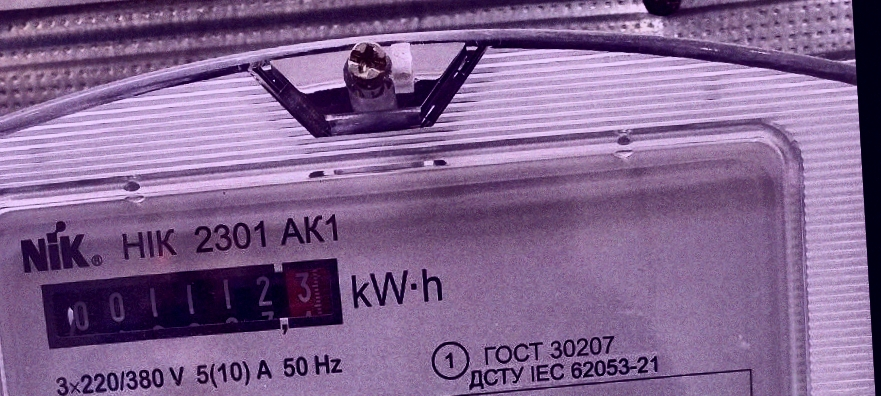0: (104, 287, 128, 326), (68, 296, 92, 332)
1: (142, 282, 163, 321), (180, 279, 197, 317), (218, 274, 234, 312)
2: (251, 272, 275, 309)
3: (292, 269, 312, 305)
screen: (33, 254, 350, 353)
